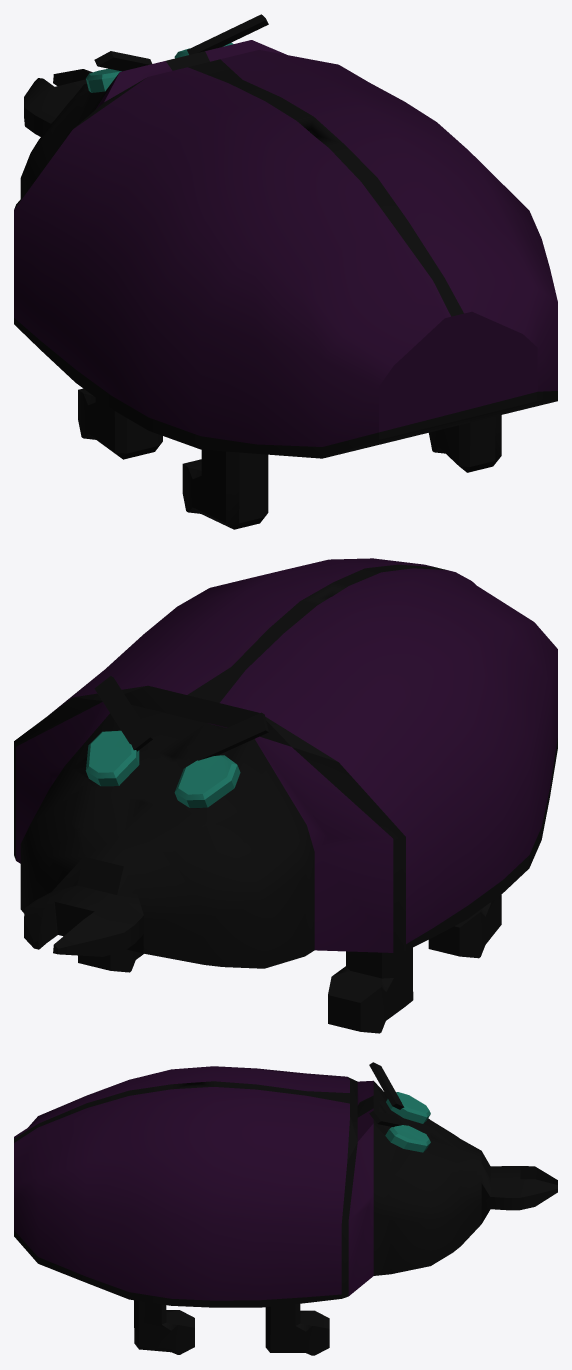
The model's file is escarabajo.FBX.
3 renders of one model, top to bottom at view 1: azimuth 30°, elevation 25°; view 2: azimuth 150°, elevation 25°; view 3: azimuth 270°, elevation 25°, orthographic. The views are drawn at different scales.
Parts seen in each view (by area): view 1: Box001; view 2: Box001; view 3: Box001.
Boxes of the visible parts, x1,y1,x2,y2 form: Box001: (14, 14, 557, 529); Box001: (14, 558, 557, 1033); Box001: (14, 1062, 557, 1355).
Bounding box in the file's own units: 536 × 443 × 978.
